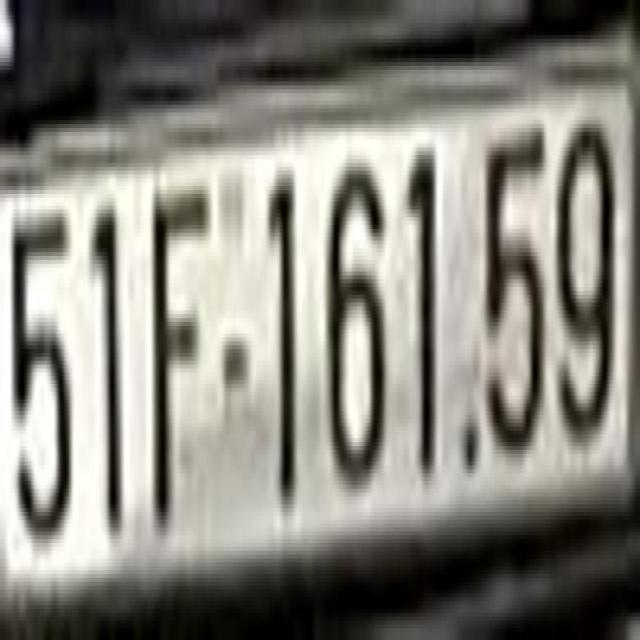1: (261, 132, 315, 527), (397, 116, 451, 508), (83, 178, 135, 558)
5: (6, 190, 76, 562), (482, 97, 544, 473)
6: (324, 112, 386, 512)
9: (552, 78, 616, 458)
F: (143, 124, 211, 539)
